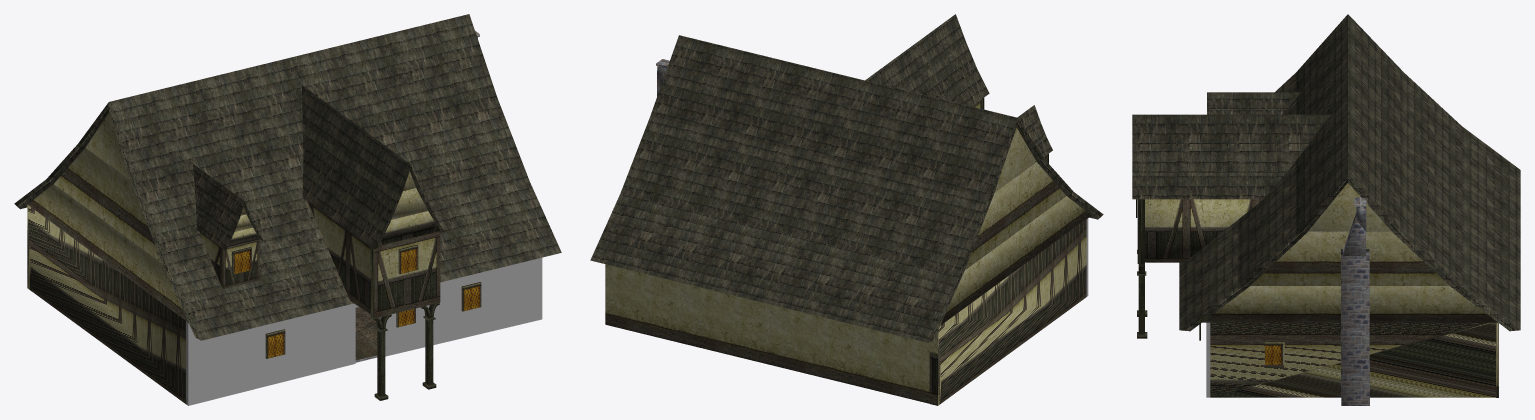
File: Tavern 1.fbx
The picture shows the model from 3 angles, left to right: view 1: azimuth 30°, elevation 25°; view 2: azimuth 150°, elevation 25°; view 3: azimuth 270°, elevation 25°; orthographic projection. The views are drawn at different scales.
Parts seen in each view (by area): view 1: Roof_r_Top1, Roof_r_Mid1, Roof_r_Bottom1, Front_Wall, Sidewall_L_Wall, Sidewall_L_Bottom, Sidewall_L_Mid, Large_Wall_roof_Front, Large_top_roof_L, Large_Mid_roof_L, Large_L_Wall, Large_Bottom_roof_L (+14 smaller); view 2: Roof_L_Top, Roof_L_Mid, Roof_L_Bottom, Back_wall, Sidewall_L_Wall, Sidewall_L_Bottom, Sidewall_L_Mid, Large_top_roof_L, Large_Mid_roof_L, Sidewall_L_Top, Large_Bottom_roof_L; view 3: Sidewall_R_Wall, Roof_L_Bottom, Roof_L_Mid, Roof_L_Top, Sidewall_R_Bottom, Roof_r_Top1, Sidewall_R_Mid, Large_top_roof_R, Large_R_Wall, Roof_r_Mid1, Large_Mid_roof_R, Roof_r_Bottom1 (+10 smaller).
Boxes of the visible parts, x1=… form: Roof_r_Top1: x1=108, y1=14, x2=497, y2=186; Roof_r_Mid1: x1=131, y1=99, x2=529, y2=269; Roof_r_Bottom1: x1=163, y1=181, x2=561, y2=340; Front_Wall: x1=186, y1=257, x2=542, y2=405; Sidewall_L_Wall: x1=27, y1=205, x2=186, y2=403; Sidewall_L_Bottom: x1=27, y1=184, x2=188, y2=322; Sidewall_L_Mid: x1=54, y1=148, x2=161, y2=262; Large_Wall_roof_Front: x1=370, y1=231, x2=440, y2=318; Large_top_roof_L: x1=302, y1=85, x2=410, y2=194; Large_Mid_roof_L: x1=302, y1=123, x2=401, y2=222; Large_L_Wall: x1=307, y1=200, x2=370, y2=313; Large_Bottom_roof_L: x1=302, y1=161, x2=389, y2=249; Roof_L_Top: x1=650, y1=35, x2=1016, y2=198; Roof_L_Mid: x1=620, y1=116, x2=993, y2=275; Roof_L_Bottom: x1=590, y1=193, x2=963, y2=342; Back_wall: x1=605, y1=264, x2=939, y2=403; Sidewall_L_Wall: x1=929, y1=219, x2=1086, y2=405; Sidewall_L_Bottom: x1=940, y1=196, x2=1091, y2=325; Sidewall_L_Mid: x1=965, y1=162, x2=1066, y2=269; Large_top_roof_L: x1=865, y1=14, x2=965, y2=88; Large_Mid_roof_L: x1=901, y1=42, x2=976, y2=97; Sidewall_L_Top: x1=994, y1=127, x2=1036, y2=192; Large_Bottom_roof_L: x1=937, y1=69, x2=989, y2=106; Sidewall_R_Wall: x1=1210, y1=322, x2=1495, y2=397; Roof_L_Bottom: x1=1452, y1=126, x2=1520, y2=331; Roof_L_Mid: x1=1393, y1=73, x2=1461, y2=287; Roof_L_Top: x1=1348, y1=14, x2=1403, y2=232; Sidewall_R_Bottom: x1=1202, y1=286, x2=1497, y2=322; Roof_r_Top1: x1=1296, y1=14, x2=1347, y2=232; Sidewall_R_Mid: x1=1250, y1=231, x2=1449, y2=285; Large_top_roof_R: x1=1132, y1=114, x2=1330, y2=144; Large_R_Wall: x1=1145, y1=199, x2=1262, y2=262; Roof_r_Mid1: x1=1238, y1=72, x2=1306, y2=287; Large_Mid_roof_R: x1=1132, y1=143, x2=1308, y2=172; Roof_r_Bottom1: x1=1179, y1=220, x2=1247, y2=331.
Bounding box in the file's own units: 2574 × 1659 × 2534.
